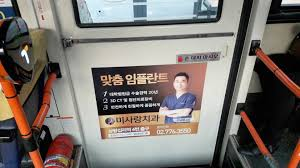in: (42, 2, 256, 164)
